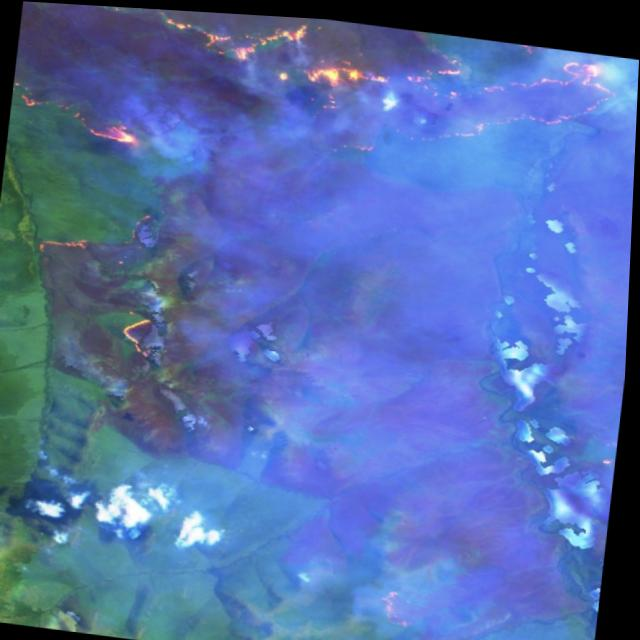fire: (6, 1, 640, 207), (109, 300, 171, 359), (25, 221, 102, 268)
